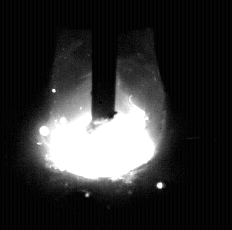arame: (92, 0, 117, 121)
poca: (46, 0, 162, 230)
